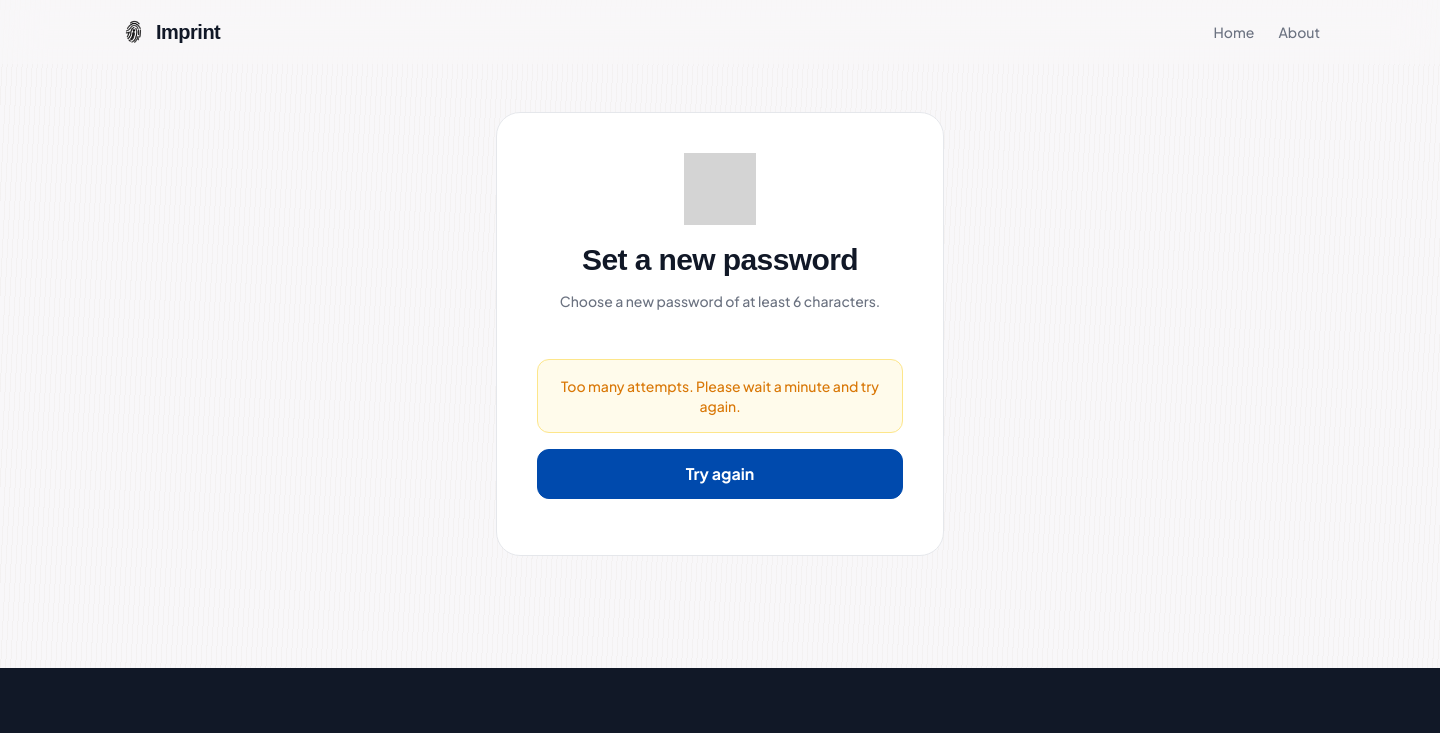
Test: reset password (S8) › says to wait, not that the link expired, when the link check is refused, and checks again on Try again
Click the button "Try again": (720, 474) [537,448,903,498]
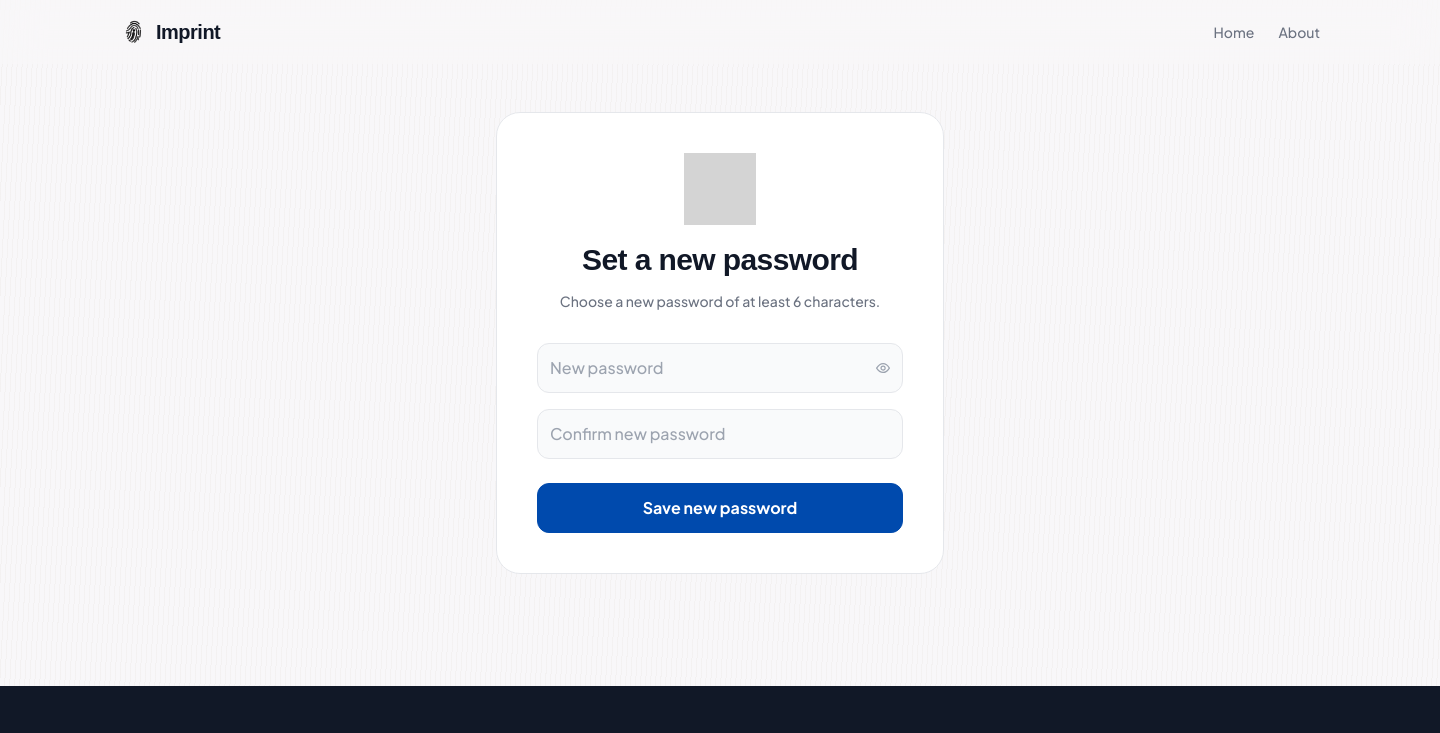
Now the password field with placeholder "New password" is shown, box [537,342,903,392]
